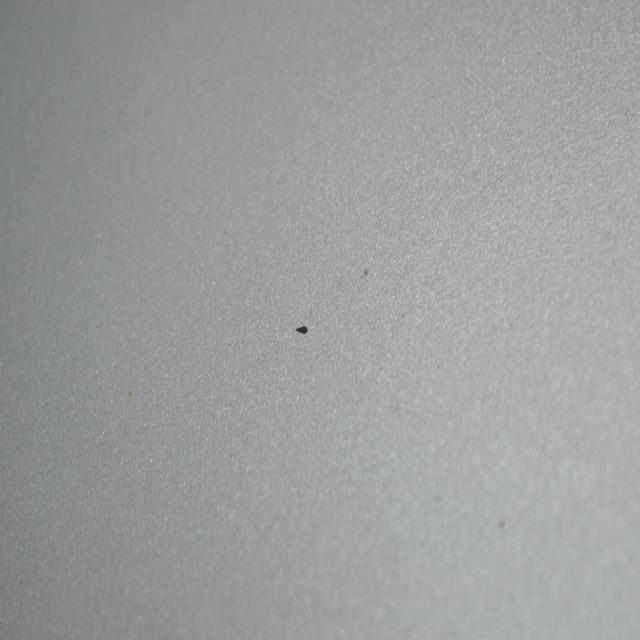dirt: (294, 318, 312, 342), (362, 266, 371, 280)
